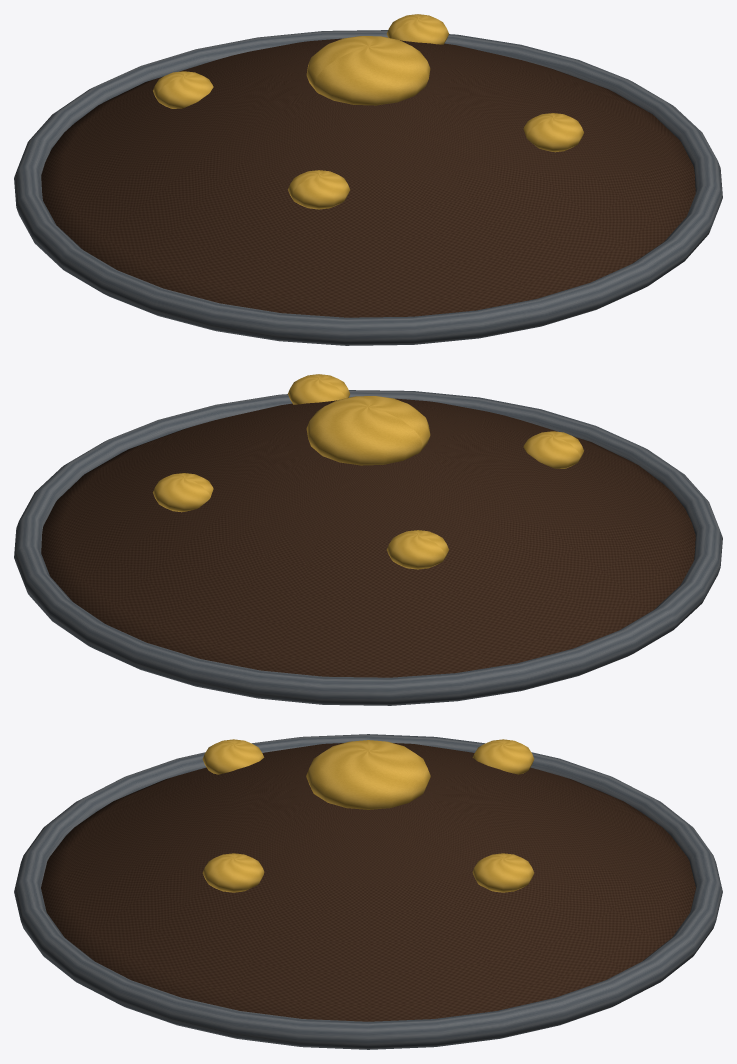
File: kalari_buckler.glb
3 renders of one model, top to bottom at view 1: azimuth 30°, elevation 25°; view 2: azimuth 150°, elevation 25°; view 3: azimuth 270°, elevation 25°, orthographic.
Parts seen in each view (by area): view 1: Kalari_Paricha_Shield; view 2: Kalari_Paricha_Shield; view 3: Kalari_Paricha_Shield.
Part boxes in pixels (<box>): Kalari_Paricha_Shield: <box>14,14,722,345</box>; Kalari_Paricha_Shield: <box>14,374,722,705</box>; Kalari_Paricha_Shield: <box>14,734,722,1049</box>.
Size of the model in its own units: 0.5 by 0.122 by 0.5.
4 materials, 4 textured.
